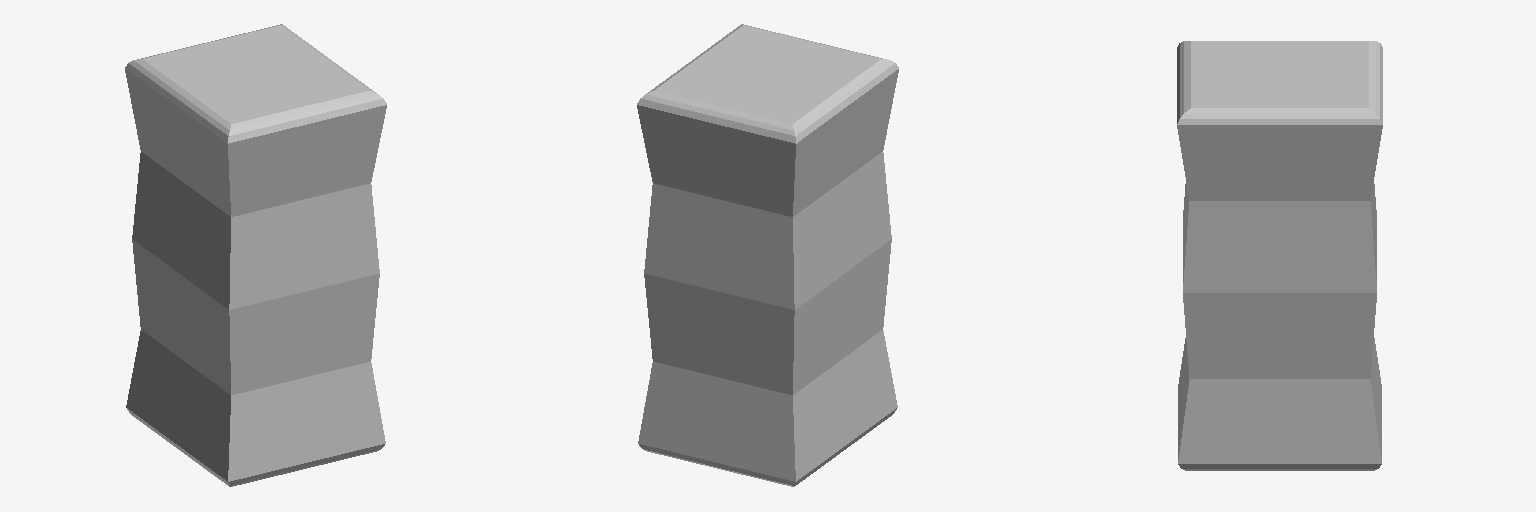
Rendered from palha.obj.
3 views of the same model, side by side, from view 1: azimuth 30°, elevation 25°; view 2: azimuth 150°, elevation 25°; view 3: azimuth 270°, elevation 25° (orthographic).
Parts seen in each view (by area): view 1: Cube_Cube.001; view 2: Cube_Cube.001; view 3: Cube_Cube.001.
Part boxes in pixels (left/top/right/bottom): Cube_Cube.001: left=125, top=24, right=386, bottom=486; Cube_Cube.001: left=637, top=24, right=898, bottom=486; Cube_Cube.001: left=1177, top=41, right=1382, bottom=470.
Size of the model in its own units: 1.03 by 2.24 by 1.16.